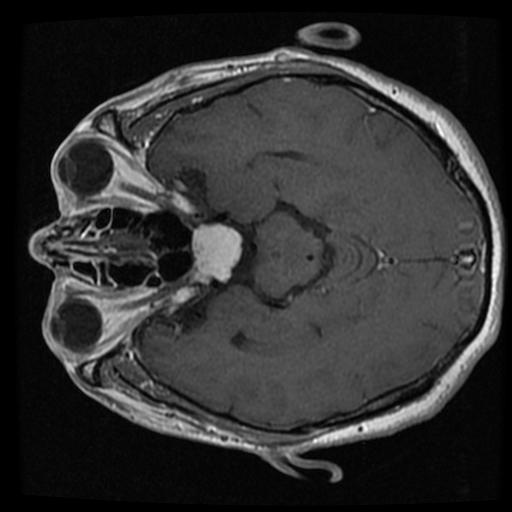meningioma: (190, 223, 242, 286)
